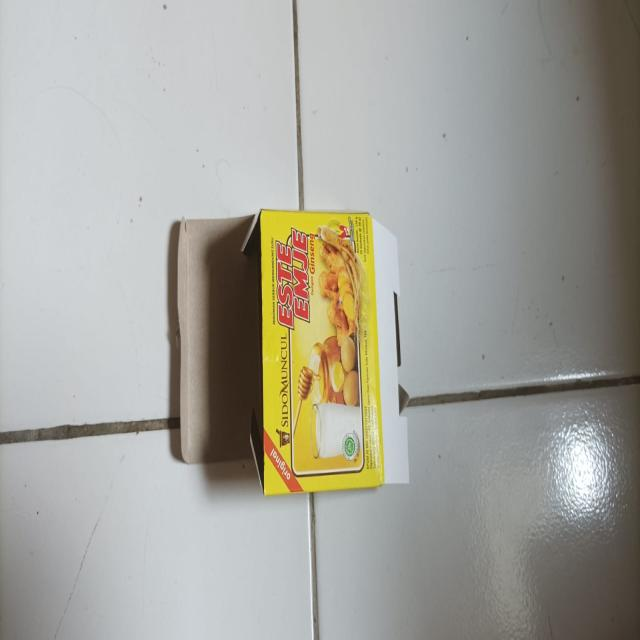Organik: (180, 217, 409, 497)
